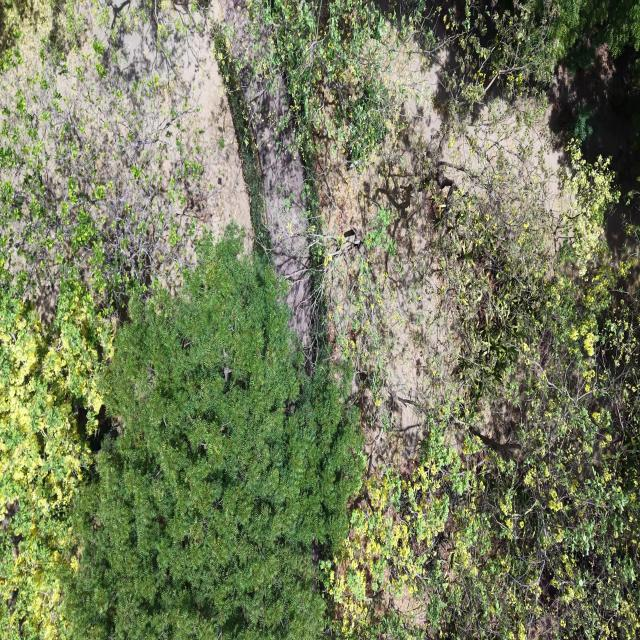DRY_AREA: (319, 42, 570, 472), (320, 64, 575, 485), (320, 44, 558, 464), (61, 0, 311, 351), (68, 0, 311, 352), (119, 0, 311, 349), (41, 2, 252, 286), (319, 41, 448, 472), (114, 14, 252, 250), (548, 45, 639, 253)
PATHWAYS: (221, 0, 311, 351)
VEGETATION_TREE: (0, 0, 639, 639), (311, 3, 638, 639), (324, 7, 637, 638), (324, 144, 639, 639), (0, 4, 210, 638), (0, 38, 201, 638), (66, 230, 361, 638), (0, 39, 209, 308), (248, 0, 564, 170), (0, 273, 112, 639), (247, 0, 393, 172), (554, 0, 639, 56)
